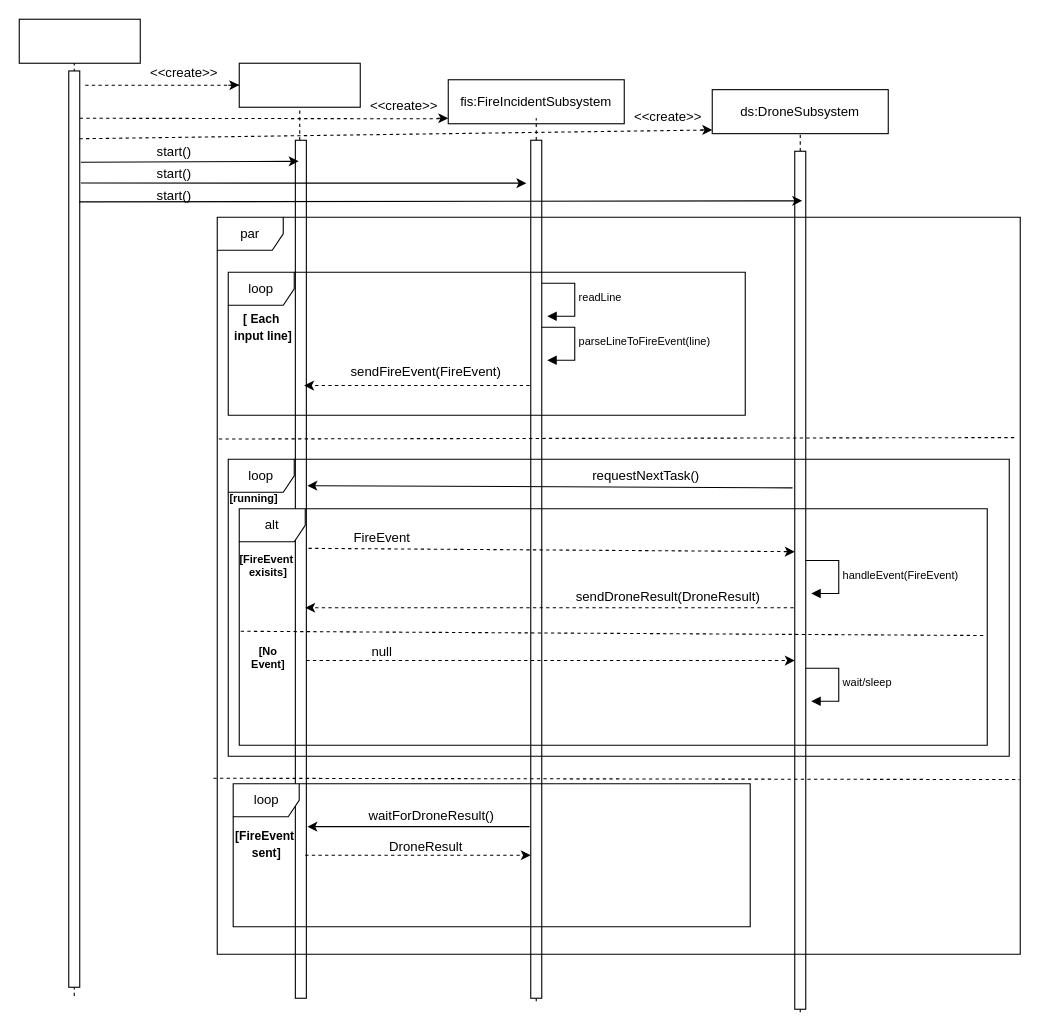
This 1041x1033 diagram has some shape labels left out. The shapes that lost their labels are listed below. From the top down, each one's centre as x and y in pixels, then its label:
At pixel 79 40: "m:Main".
At pixel 299 84: "s:Scheduler".
